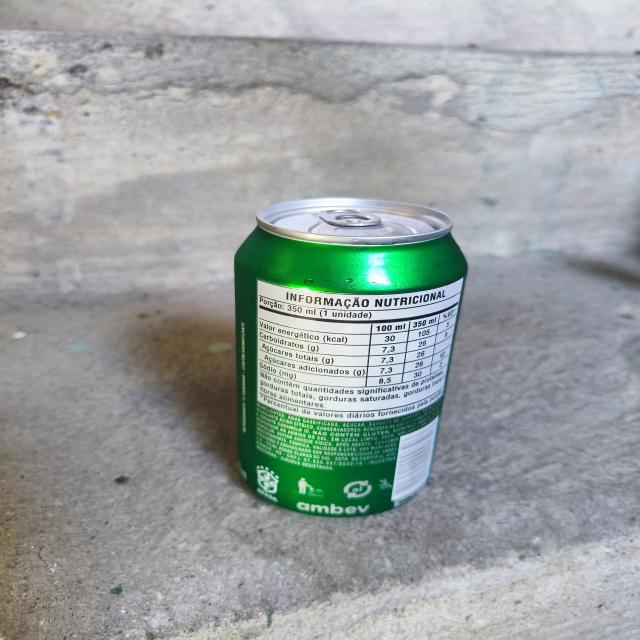Guarana: (205, 181, 485, 533)
